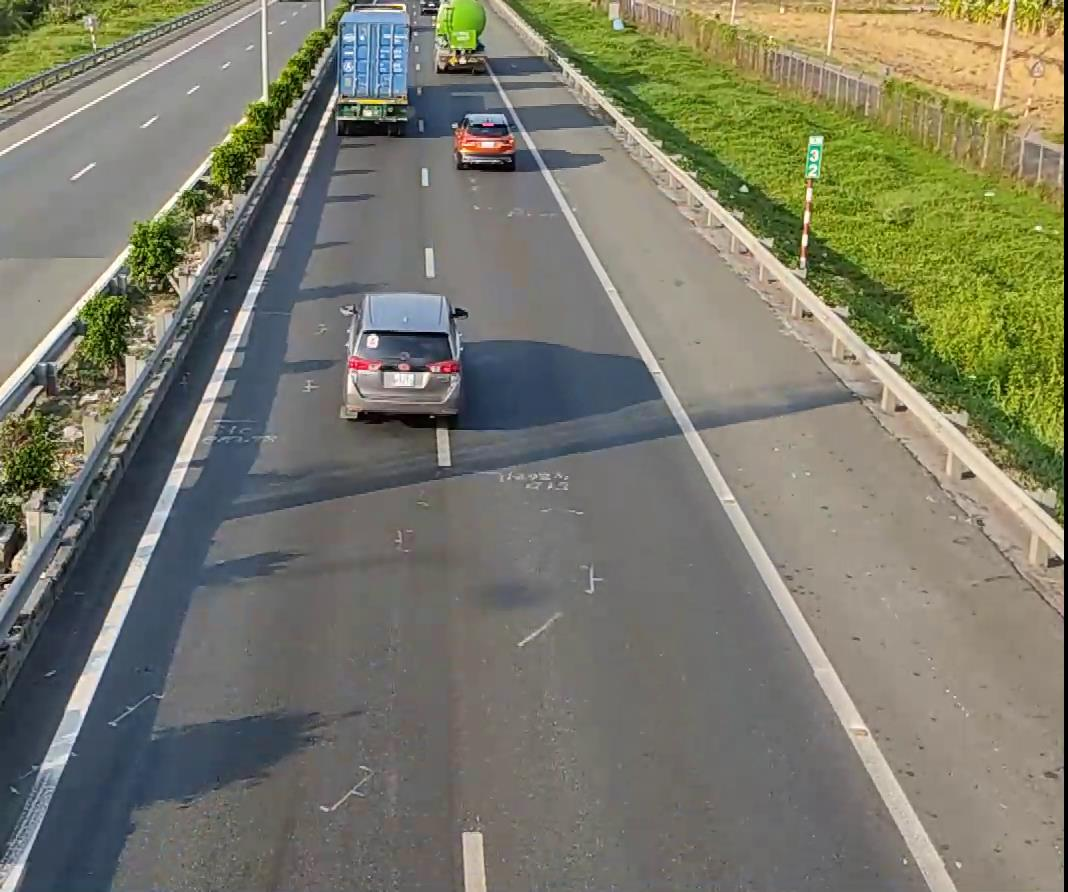car: (340, 292, 467, 422)
container: (331, 0, 415, 132)
